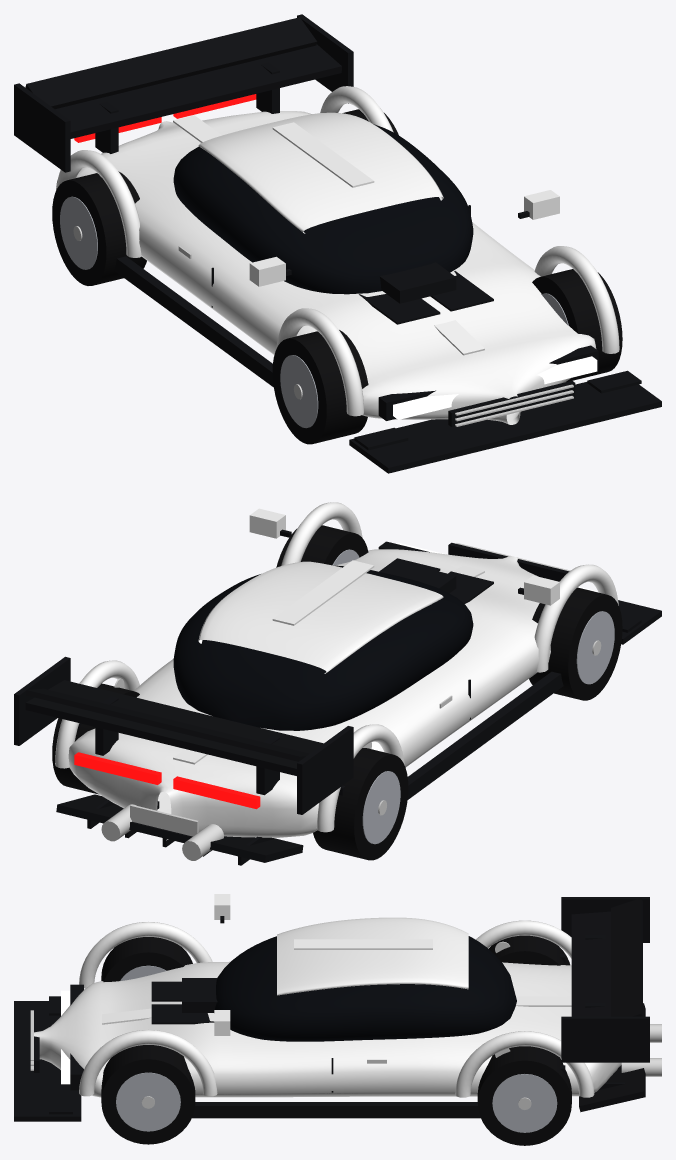
File: car_gtr.glb
3 views of the same model, one above another, from view 1: azimuth 30°, elevation 25°; view 2: azimuth 150°, elevation 25°; view 3: azimuth 270°, elevation 25° (orthographic). The views are drawn at different scales.
Parts seen in each view (by area): view 1: body, cabin, roof, tire (×3), splitter, wing_flap, wing_main, rim (×2), skirtR, plate_end-1, flareR1.4, flareL1.4 (+18 smaller); view 2: body, cabin, roof, tire (×4), wing_main, rim (×2), skirtR, diffuser, wing_flap, plate_end-1, flareR1.4, plate_end1 (+17 smaller); view 3: body, cabin, tire (×4), roof, rim (×3), skirtL, splitter, plate_end1, wing_main, wing_flap, flareL1.4, flareL-1.4 (+14 smaller).
Boxes of the visible parts, x1,y1,x2,y2 form: body: (76,111,596,424); cabin: (173,124,473,294); roof: (198,112,443,233); tire (×3): (52,171,622,444); splitter: (349,382,661,473); wing_flap: (25,17,317,109); wing_main: (55,44,341,138); rim (×2): (60,196,318,428); skirtR: (114,256,273,386); plate_end-1: (14,83,70,172); flareR1.4: (276,308,363,416); flareL1.4: (534,246,619,353); body: (68,549,550,840); cabin: (173,565,473,730); roof: (198,561,443,673); tire (×4): (52,525,622,860); wing_main: (25,680,323,775); rim (×2): (362,611,614,844); skirtR: (407,671,563,799); diffuser: (56,794,303,862); wing_flap: (25,688,309,761); plate_end-1: (297,726,353,814); flareR1.4: (534,564,618,672); plate_end1: (14,656,70,745); body: (34,961,621,1097); cabin: (215,936,516,1041); tire (×4): (101,935,571,1145); roof: (277,917,468,995); rim (×3): (116,965,557,1132); skirtL: (192,1102,480,1118); splitter: (14,1001,81,1121); plate_end1: (561,1016,649,1062); wing_main: (571,911,610,1016); wing_flap: (611,898,642,1016); flareL1.4: (79,1030,217,1096); flareL-1.4: (455,1031,594,1097).
Size of the model in its own units: 2.28 by 1.13 by 4.82.
